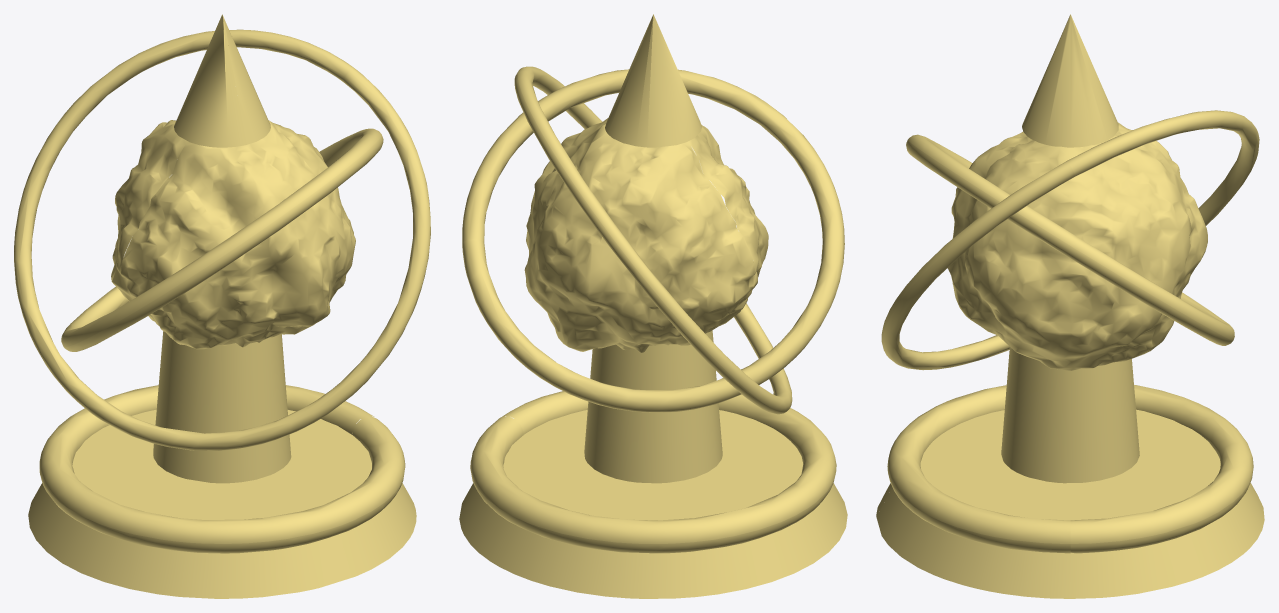
The picture shows the model from 3 angles, left to right: view 1: azimuth 30°, elevation 25°; view 2: azimuth 150°, elevation 25°; view 3: azimuth 270°, elevation 25°; orthographic projection.
Parts seen in each view (by area): view 1: CyberRelic_Node; view 2: CyberRelic_Node; view 3: CyberRelic_Node.
Part boxes in pixels (<box>): CyberRelic_Node: <box>14,14,430,598</box>; CyberRelic_Node: <box>459,14,847,598</box>; CyberRelic_Node: <box>876,14,1264,598</box>.
Bounding box in the file's own units: 2.8 × 4 × 2.8.
